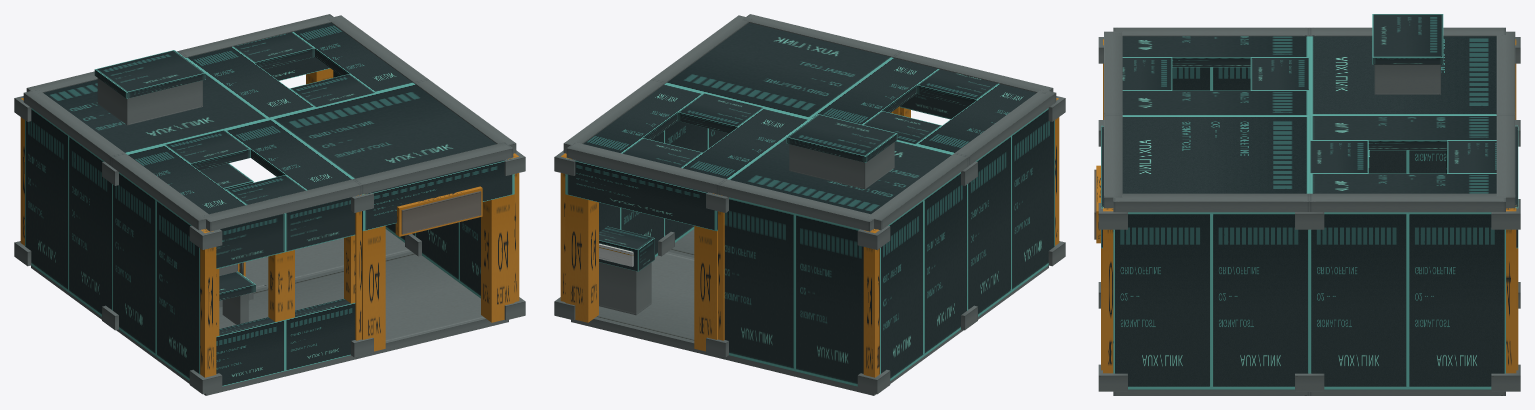
Rendered from PurificationStation_LOD3.obj.
3 views of the same model, side by side, from view 1: azimuth 30°, elevation 25°; view 2: azimuth 150°, elevation 25°; view 3: azimuth 270°, elevation 25° (orthographic). The views are drawn at different scales.
Visible parts, largest first — view 1: 005_roof_4m.007, 019_doorframe_4m.007, 007_roof_skylight_4m.007, 001_roof_skylight_4m.007, 004_floor_4m.007, 017_wall_window_2m.007, 016_wall_window_2m.007, 003_roof_4m.007, 024_wall_vent_2m.007, 021_wall_solid_2m.007, 025_wall_vent_2m.007, 022_wall_solid_2m.007 (+23 smaller); view 2: 030_doorframe_4m.007, 005_roof_4m.007, 028_wall_solid_2m.011, 027_wall_solid_2m.007, 007_roof_skylight_4m.007, 001_roof_skylight_4m.007, 022_wall_solid_2m.007, 025_wall_vent_2m.007, 021_wall_solid_2m.007, 024_wall_vent_2m.007, 003_roof_4m.007, 039_hvac_unit.007 (+20 smaller); view 3: 032_wall_solid_2m.007, 033_wall_solid_2m.007, 035_wall_vent_2m.007, 036_wall_vent_2m.007, 005_roof_4m.007, 001_roof_skylight_4m.007, 007_roof_skylight_4m.007, 003_roof_4m.007, 039_hvac_unit.007, 034_beam_4m.007, 037_beam_4m.007, 013_column_4m.011 (+17 smaller).
Boxes of the visible parts, bbox=[...] form: 005_roof_4m.007: bbox=[270, 83, 496, 179]; 019_doorframe_4m.007: bbox=[362, 158, 514, 351]; 007_roof_skylight_4m.007: bbox=[187, 22, 413, 118]; 001_roof_skylight_4m.007: bbox=[127, 119, 351, 214]; 004_floor_4m.007: bbox=[295, 251, 508, 358]; 017_wall_window_2m.007: bbox=[285, 197, 355, 371]; 016_wall_window_2m.007: bbox=[216, 213, 285, 386]; 003_roof_4m.007: bbox=[43, 58, 269, 153]; 024_wall_vent_2m.007: bbox=[68, 135, 112, 316]; 021_wall_solid_2m.007: bbox=[156, 199, 200, 380]; 025_wall_vent_2m.007: bbox=[25, 108, 68, 292]; 022_wall_solid_2m.007: bbox=[112, 172, 155, 356]; 030_doorframe_4m.007: bbox=[565, 158, 717, 351]; 005_roof_4m.007: bbox=[666, 22, 892, 118]; 028_wall_solid_2m.011: bbox=[724, 197, 794, 371]; 027_wall_solid_2m.007: bbox=[794, 213, 863, 386]; 007_roof_skylight_4m.007: bbox=[583, 83, 809, 179]; 001_roof_skylight_4m.007: bbox=[810, 58, 1036, 153]; 022_wall_solid_2m.007: bbox=[967, 135, 1011, 316]; 025_wall_vent_2m.007: bbox=[879, 199, 923, 380]; 021_wall_solid_2m.007: bbox=[1011, 108, 1054, 292]; 024_wall_vent_2m.007: bbox=[924, 172, 967, 356]; 003_roof_4m.007: bbox=[728, 119, 952, 214]; 039_hvac_unit.007: bbox=[786, 114, 897, 189]; 032_wall_solid_2m.007: bbox=[1113, 212, 1211, 389]; 033_wall_solid_2m.007: bbox=[1211, 212, 1309, 389]; 035_wall_vent_2m.007: bbox=[1309, 212, 1407, 389]; 036_wall_vent_2m.007: bbox=[1408, 212, 1505, 389]; 005_roof_4m.007: bbox=[1122, 115, 1309, 193]; 001_roof_skylight_4m.007: bbox=[1122, 36, 1309, 115]; 007_roof_skylight_4m.007: bbox=[1309, 115, 1496, 193]; 003_roof_4m.007: bbox=[1309, 36, 1496, 115]; 039_hvac_unit.007: bbox=[1372, 14, 1443, 94]; 034_beam_4m.007: bbox=[1113, 193, 1309, 212]; 037_beam_4m.007: bbox=[1309, 193, 1505, 212]; 013_column_4m.011: bbox=[1098, 203, 1127, 391].
Bounding box in the file's own units: 8.52 × 5.3 × 8.69.
1 material, 1 textured.
